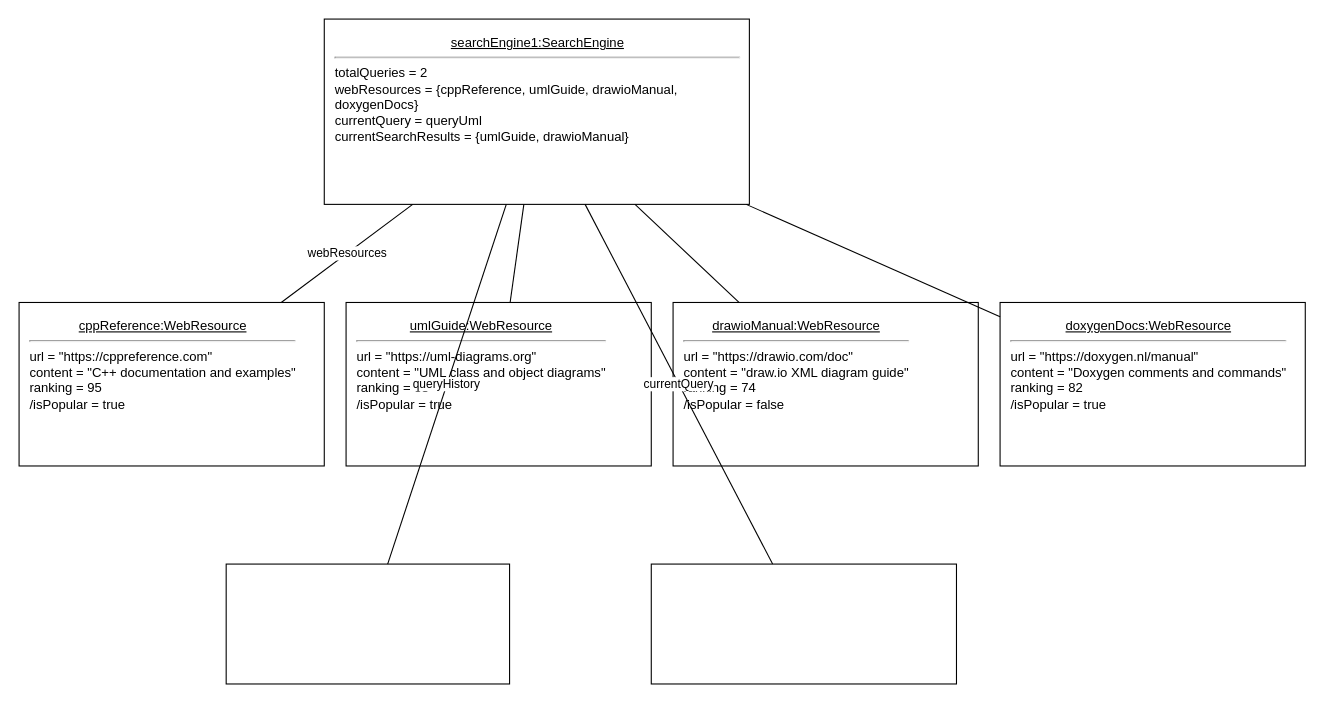
The diagram is 1324 pixels wide and 703 high, and some of its shapes have lost their labels. Each missing label, with the centre of its shape:
queryCpp:SearchQuery query = "C++ constexpr const" maxResults = 10: pixel 367 623
queryUml:SearchQuery query = "UML object diagram drawio" maxResults = 5: pixel 803 623
